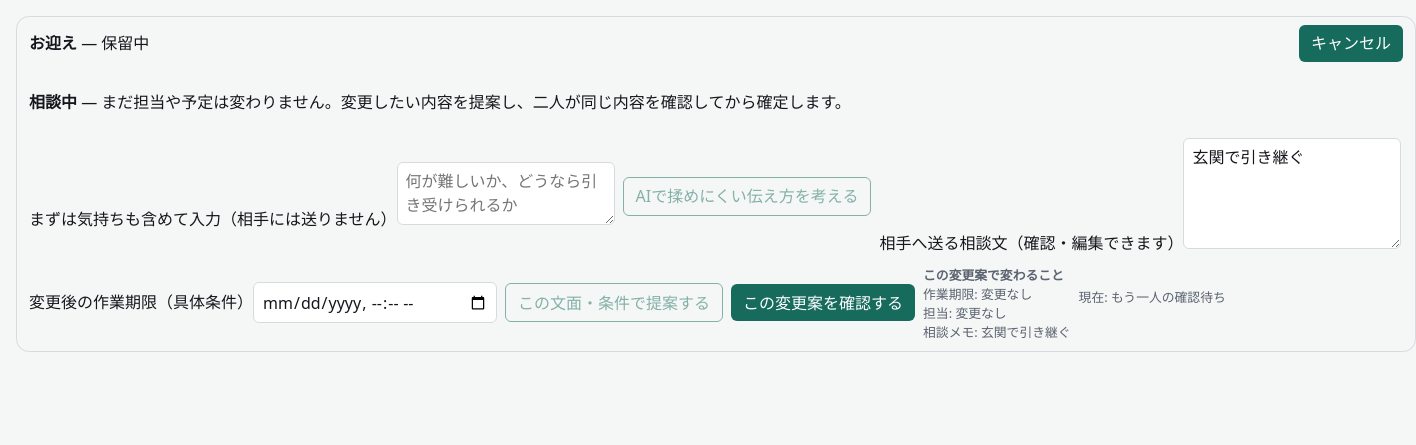
Test: keeps unsent feelings private when AI is unavailable
Type "送らない気持ち" into the text box labelled "まずは気持ちも含めて入力（相手には送りません）" at (506, 193), box [396,162,614,225]
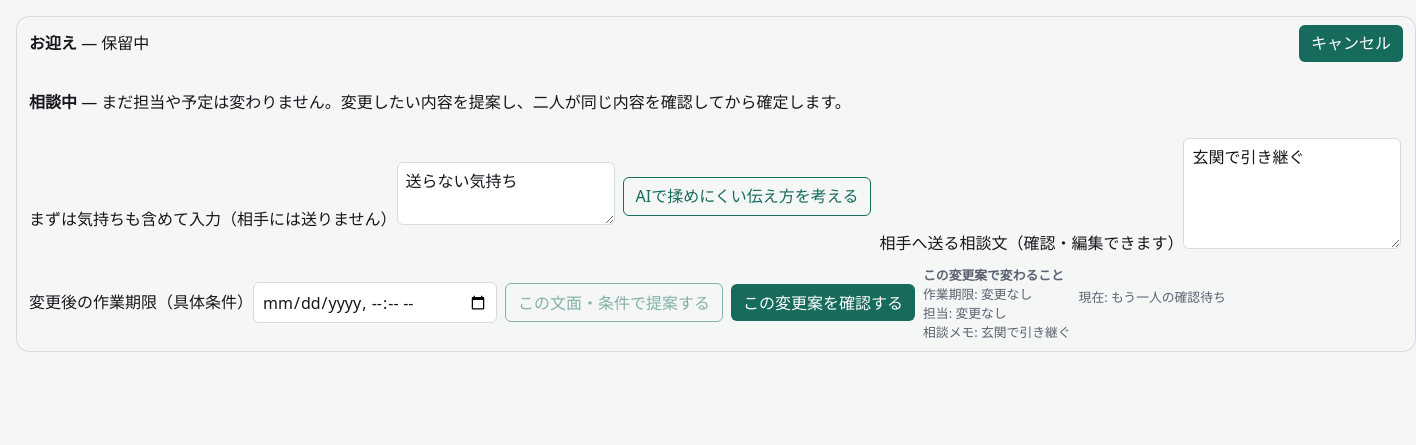
Click the button "AIで揉めにくい伝え方を考える" at (747, 196), box [622,177,871,216]
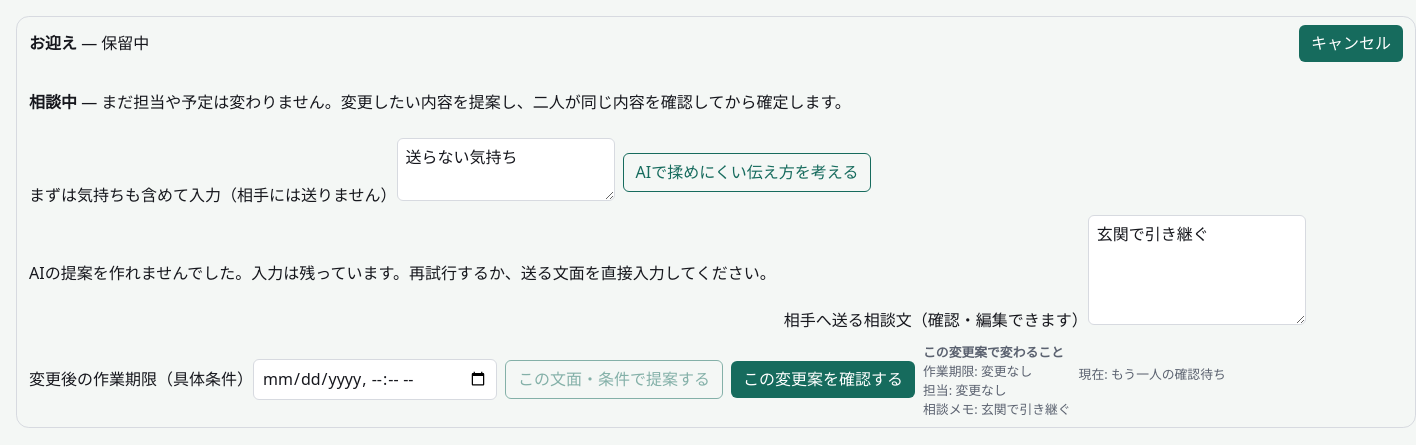
Expected: the text box showing "玄関で引き継ぐ" is shown, [1088,215,1306,325]
Expected: the message "AIの提案を作れませんでした。入力は残っています。再試行するか、送る文面を直接入力してください。" is shown, [29,261,776,285]
